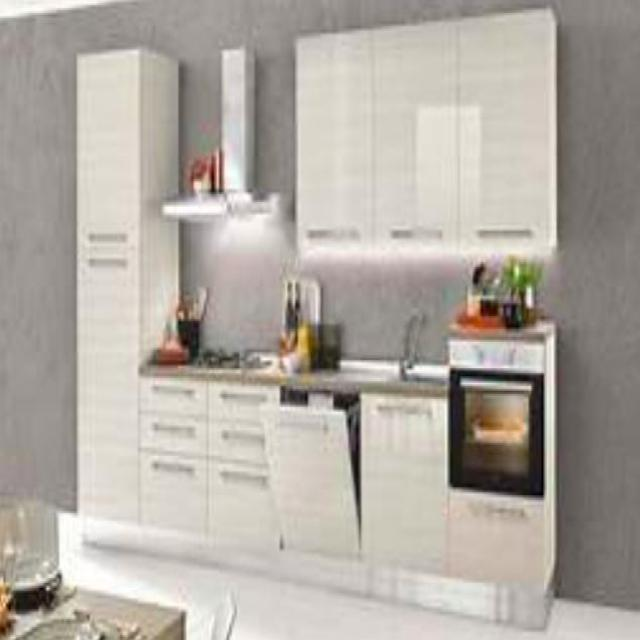dishwasher: (258, 390, 358, 556)
